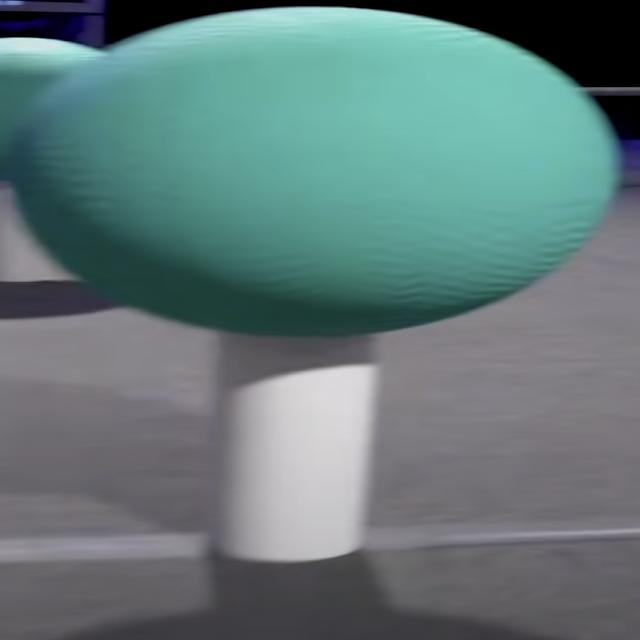Algae: (11, 7, 613, 335), (0, 37, 103, 177)
Coral: (213, 336, 378, 561)
